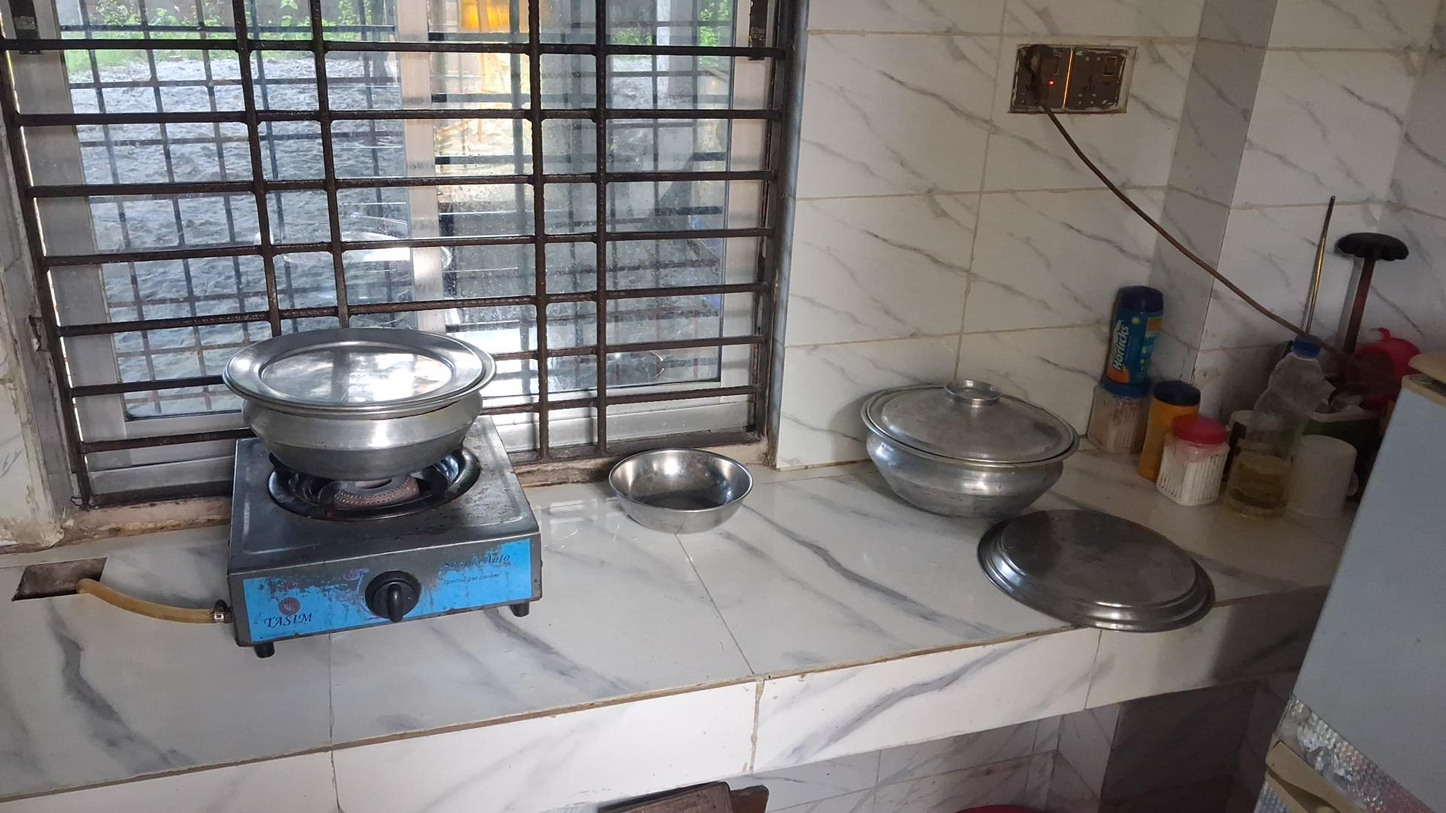Bottle: (1223, 336, 1335, 519)
Bowl: (606, 447, 752, 534)
Cup: (1284, 434, 1357, 519)
Jar: (1104, 288, 1163, 382), (1165, 421, 1227, 504), (1084, 376, 1146, 453)
Plate: (981, 522, 1227, 637)
Pot: (229, 327, 495, 480), (856, 376, 1077, 519)
Window: (2, 3, 784, 448)
